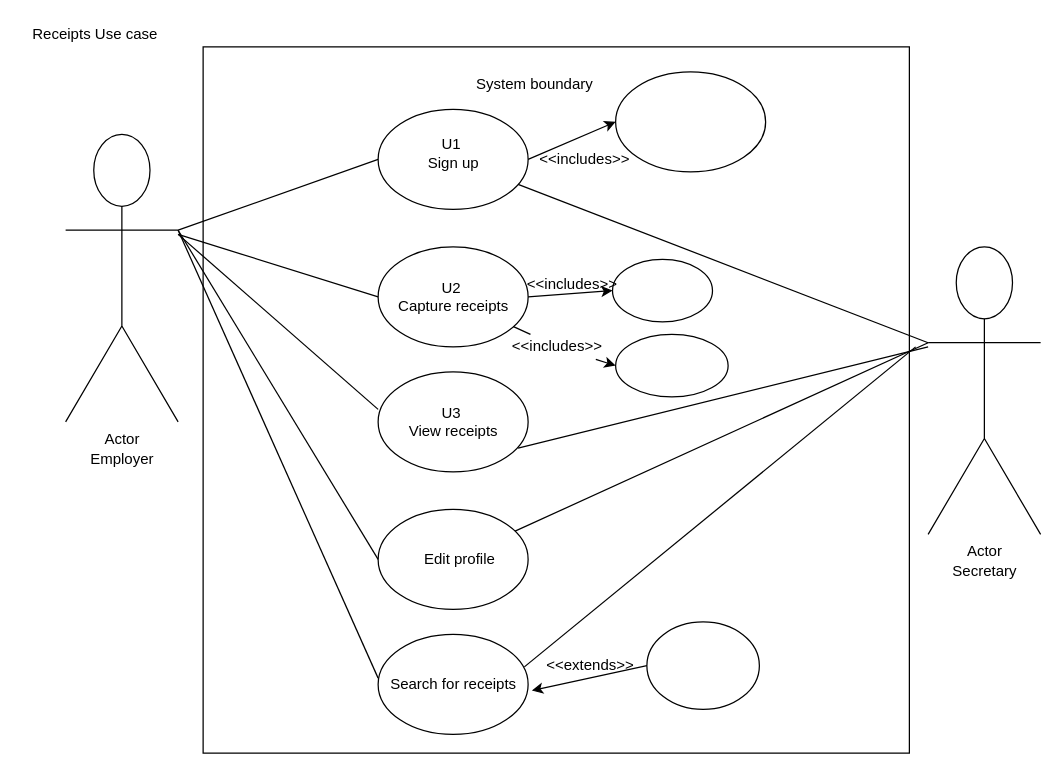
Image size: 1063x775. Some labels were removed from this diagram. The shapes that lost their labels are listed below. From the top down, each one's centre as x and y in pixels, then its label:
At [690,121]: "Login".
At [661,290]: "Manual add".
At [671,365]: "Picture add".
At [702,665]: "Compare receipts".
